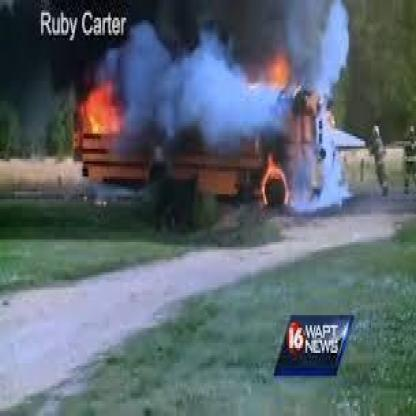fire: (72, 70, 132, 150), (254, 41, 299, 96)
smoke: (87, 1, 346, 138)
